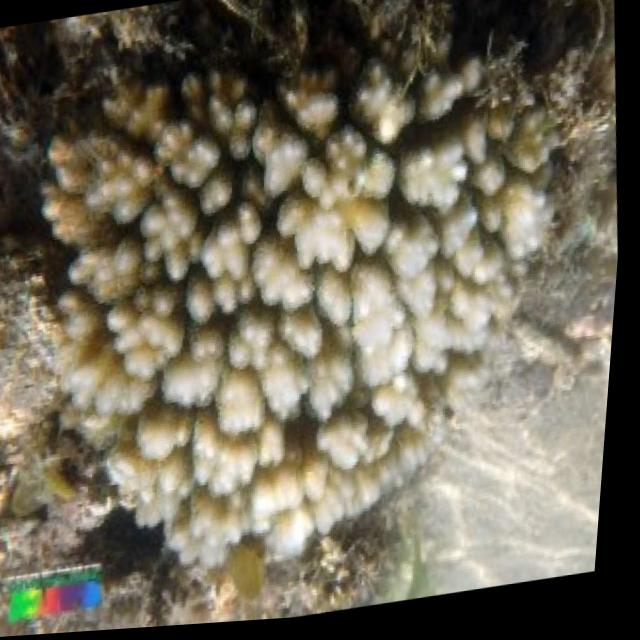Bleached Coral: (0, 11, 604, 607)
